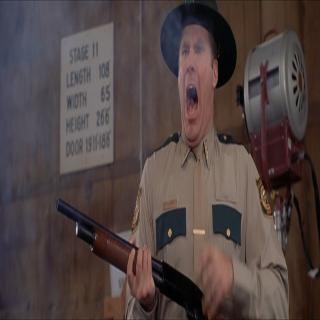gun: (41, 178, 213, 316)
